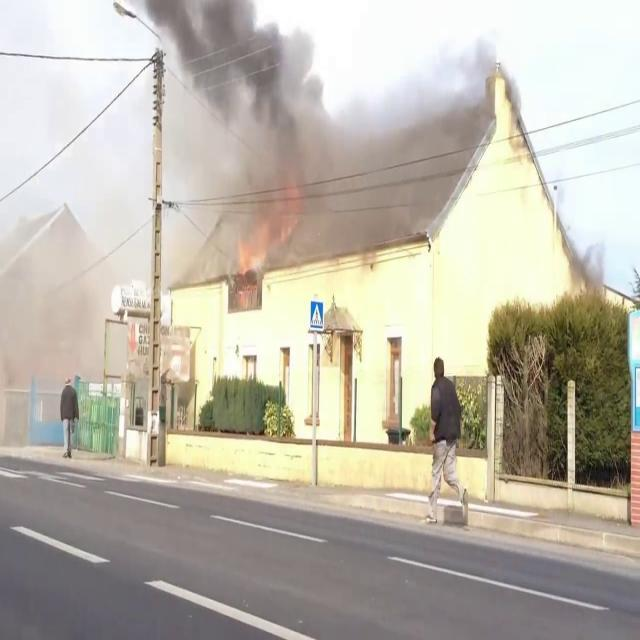Smoke: (170, 0, 493, 276)
